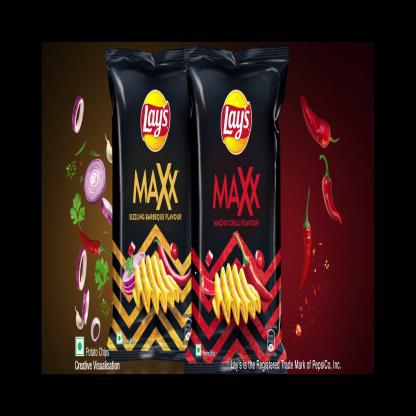max_chili: (191, 55, 284, 361)
maxx_sizzling_barbeque: (106, 53, 192, 356)
